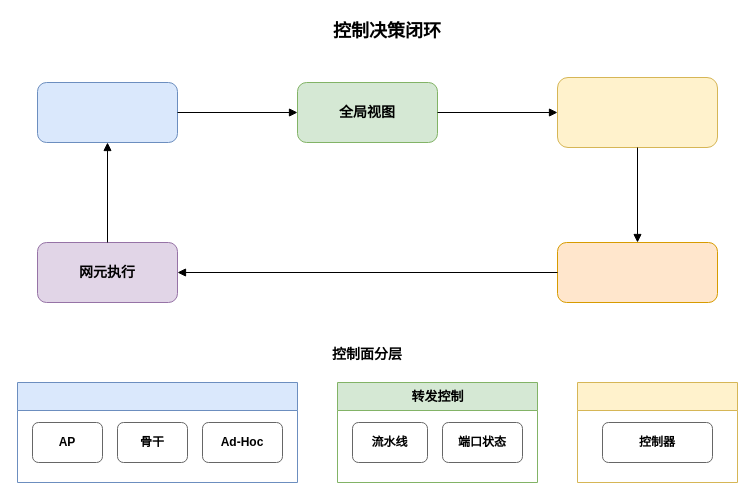
This 755x500 diagram has some shape labels left out. The box of each missing label's shape, as (x1, y1, x2, y2) in pixels:
决策层: (576, 382, 738, 482)
无线接口: (16, 382, 298, 482)
智能决策 （Q-Learning）: (556, 76, 718, 148)
状态采集: (36, 82, 178, 142)
策略下发: (556, 242, 718, 302)
